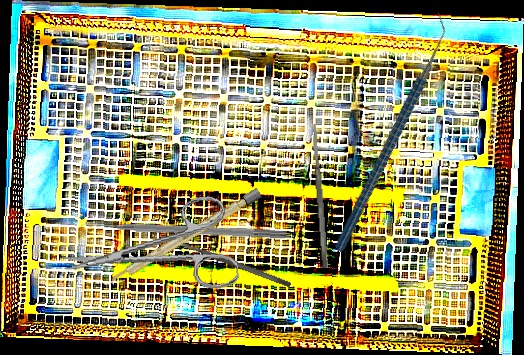Chopper: (269, 12, 510, 253)
Iris Scissors: (57, 192, 241, 308)
Pusher: (80, 217, 288, 240)
Scalpel Handle: (106, 187, 263, 288)
Spatula Surgical: (160, 232, 292, 289), (310, 123, 330, 269)
